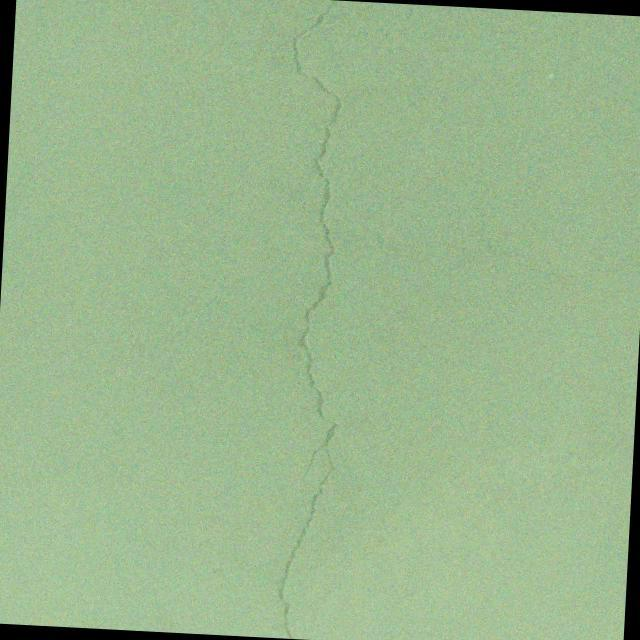crack: (260, 0, 511, 640), (511, 259, 578, 280)
